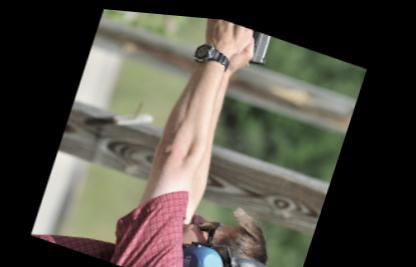pistol: (214, 15, 280, 66)
